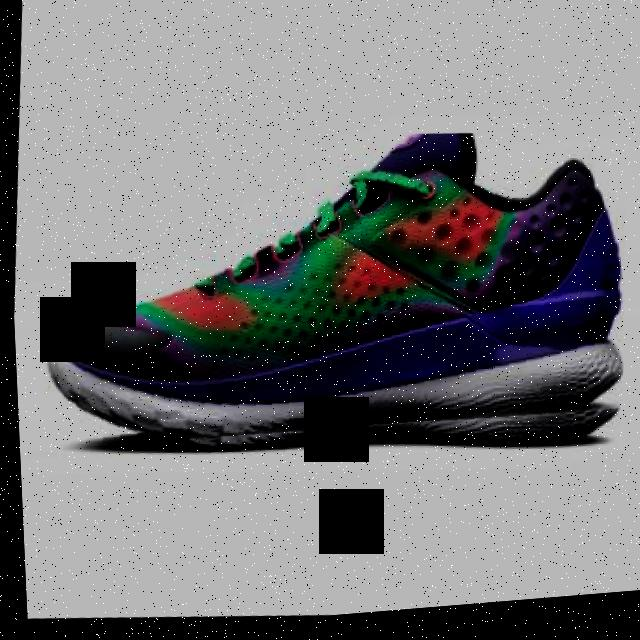shoe: (25, 101, 638, 490)
